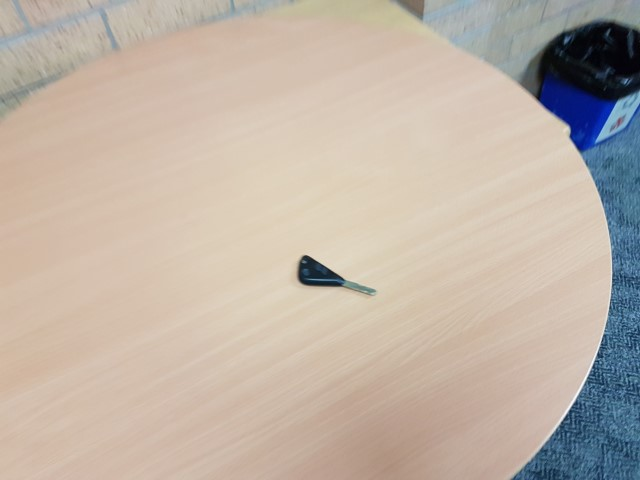key: (298, 255, 379, 298)
